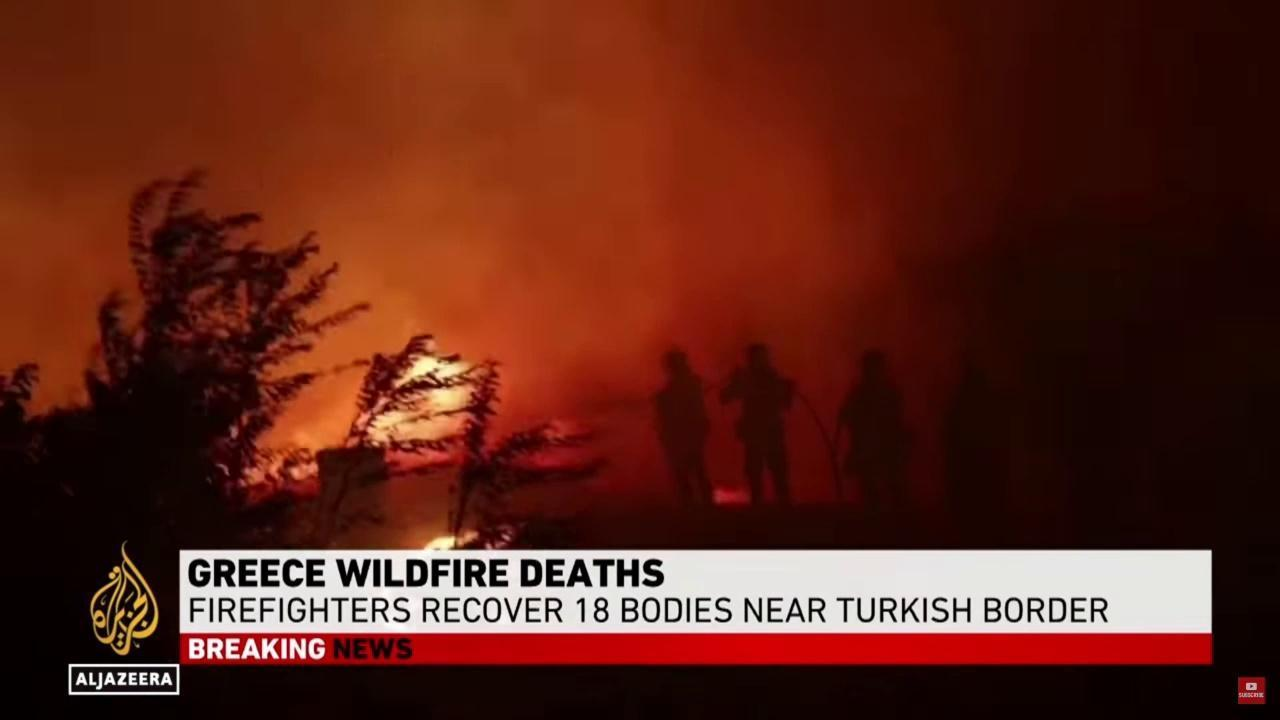fire: (337, 342, 482, 467), (420, 528, 516, 550)
smoke: (0, 0, 1023, 515)
